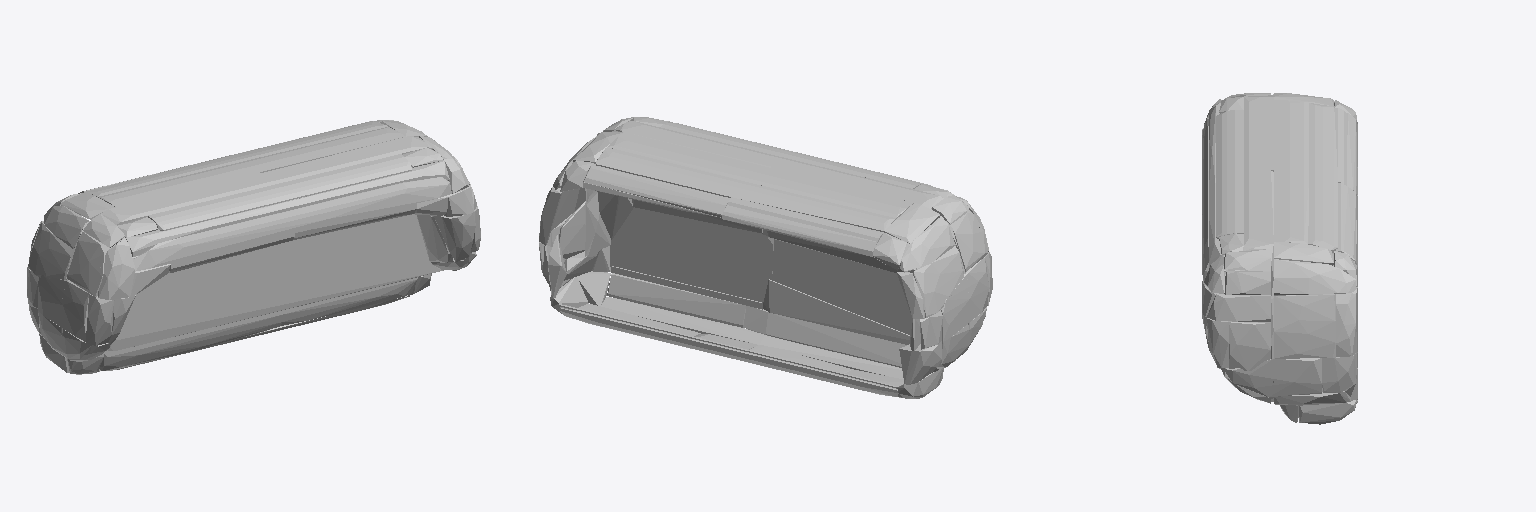
File: sofa.obj
The picture shows the model from 3 angles: view 1: azimuth 30°, elevation 25°; view 2: azimuth 150°, elevation 25°; view 3: azimuth 270°, elevation 25°; orthographic projection.
Visible parts, largest first — view 1: convex_14, convex_89, convex_80, convex_35, convex_20, convex_5, convex_34, convex_46, convex_16, convex_27, convex_88, convex_21 (+16 smaller); view 2: convex_14, convex_35, convex_34, convex_9, convex_20, convex_27, convex_29, convex_63, convex_37, convex_32, convex_46, convex_5 (+28 smaller); view 3: convex_35, convex_34, convex_11, convex_80, convex_22, convex_42, convex_5, convex_16, convex_58, convex_61, convex_79, convex_37 (+13 smaller).
Boxes of the visible parts, x1=… form: convex_14: x1=108, y1=215, x2=442, y2=350; convex_89: x1=133, y1=177, x2=451, y2=271; convex_80: x1=148, y1=154, x2=411, y2=230; convex_35: x1=98, y1=127, x2=405, y2=206; convex_20: x1=99, y1=310, x2=282, y2=370; convex_5: x1=101, y1=172, x2=274, y2=224; convex_34: x1=86, y1=121, x2=387, y2=196; convex_46: x1=38, y1=275, x2=88, y2=341; convex_16: x1=261, y1=137, x2=432, y2=183; convex_27: x1=281, y1=277, x2=417, y2=325; convex_88: x1=125, y1=201, x2=291, y2=256; convex_21: x1=289, y1=160, x2=449, y2=209; convex_14: x1=610, y1=207, x2=912, y2=335; convex_35: x1=608, y1=132, x2=913, y2=218; convex_34: x1=596, y1=147, x2=895, y2=231; convex_9: x1=601, y1=297, x2=903, y2=378; convex_20: x1=743, y1=306, x2=906, y2=367; convex_27: x1=607, y1=273, x2=745, y2=327; convex_29: x1=763, y1=279, x2=910, y2=344; convex_63: x1=559, y1=308, x2=901, y2=396; convex_37: x1=583, y1=163, x2=729, y2=215; convex_32: x1=722, y1=205, x2=877, y2=256; convex_46: x1=941, y1=257, x2=989, y2=341; convex_5: x1=771, y1=158, x2=943, y2=208; convex_35: x1=1274, y1=100, x2=1308, y2=243; convex_34: x1=1308, y1=103, x2=1337, y2=249; convex_11: x1=1274, y1=294, x2=1335, y2=358; convex_80: x1=1216, y1=110, x2=1243, y2=238; convex_22: x1=1223, y1=358, x2=1321, y2=398; convex_42: x1=1274, y1=259, x2=1355, y2=294; convex_5: x1=1244, y1=95, x2=1273, y2=171; convex_16: x1=1244, y1=170, x2=1270, y2=250; convex_58: x1=1229, y1=322, x2=1270, y2=370; convex_61: x1=1207, y1=294, x2=1270, y2=321; convex_79: x1=1336, y1=288, x2=1357, y2=356; convex_37: x1=1336, y1=183, x2=1355, y2=261.
Bounding box in the file's own units: 2.11 × 0.8731 × 0.7149.